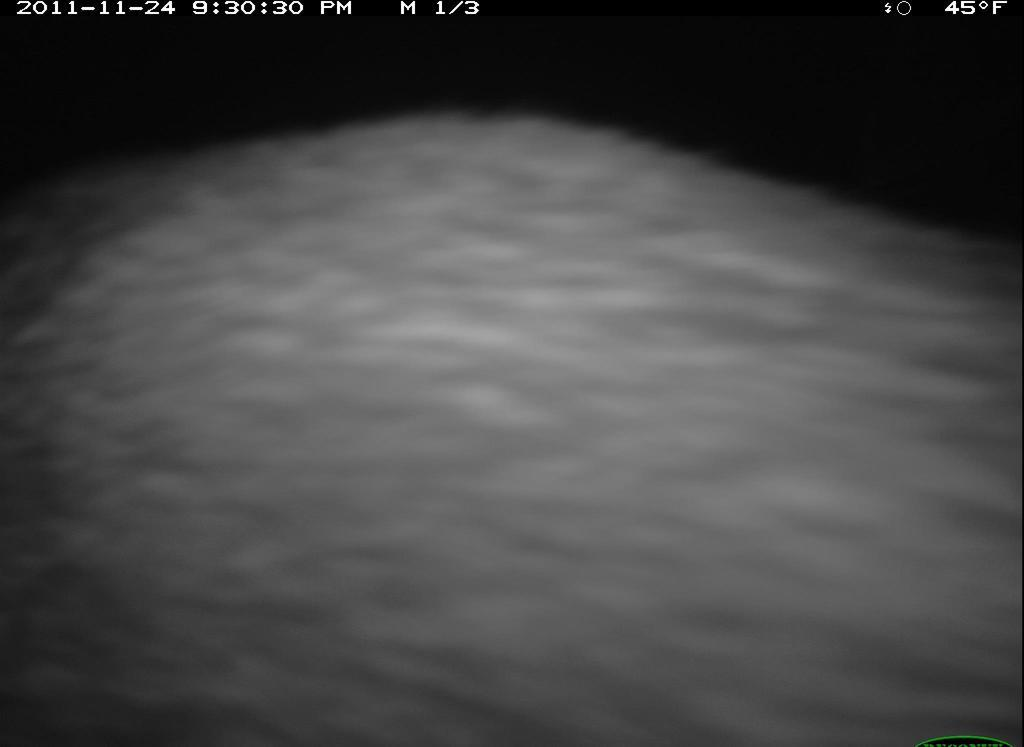raccoon: (4, 103, 1024, 747)
